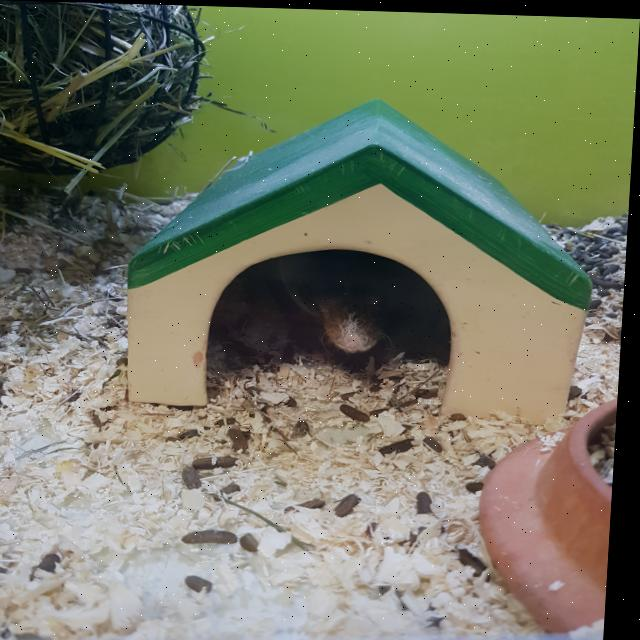guinea pig: (239, 248, 454, 365)
